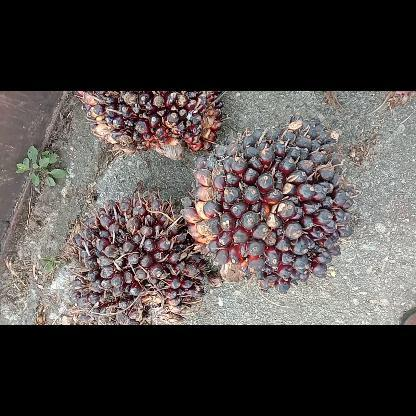TBS mentah: (179, 114, 353, 294), (62, 191, 210, 324), (76, 91, 218, 161)
